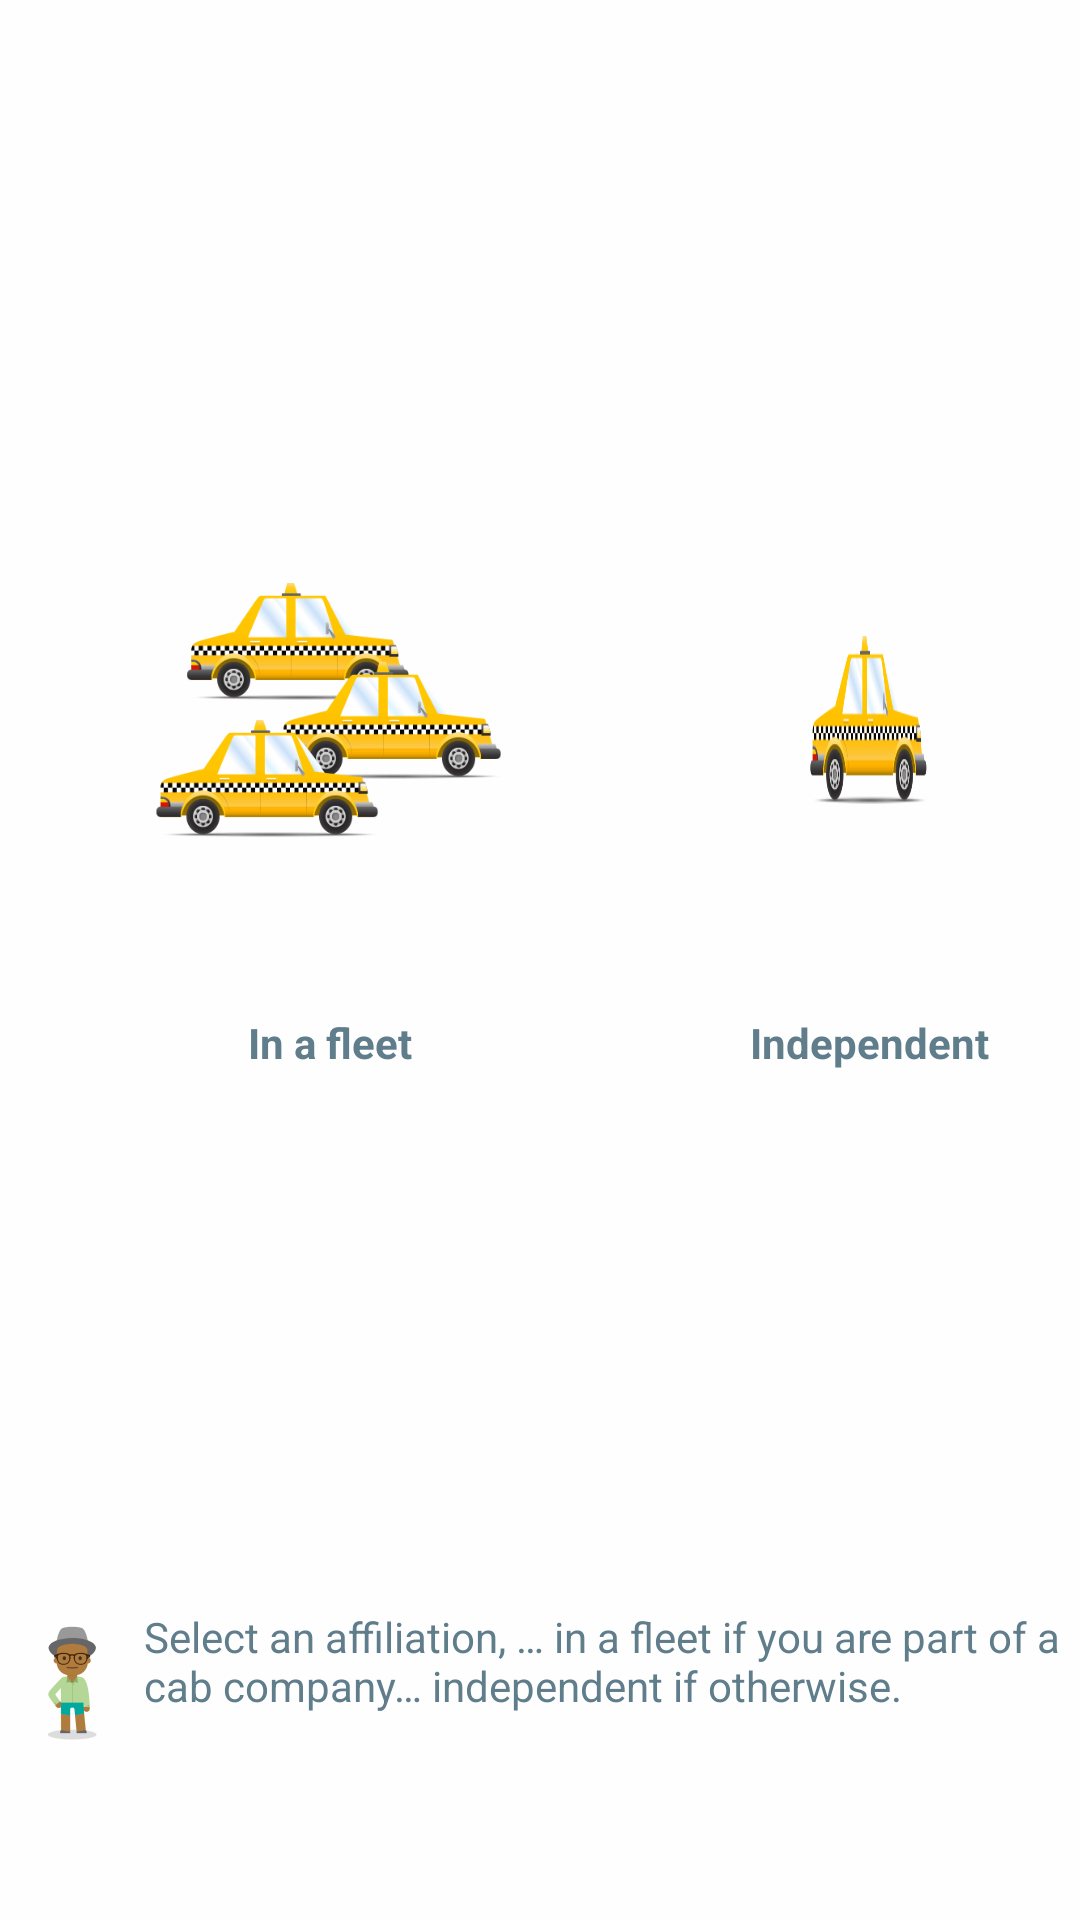

Screen size 1080w x 1920h. Icon name, then its box in pixels as [x1=x1, y1=y1, x2=x2, y2=y2]:
taxicar: [x1=810, y1=636, x2=927, y2=804]
